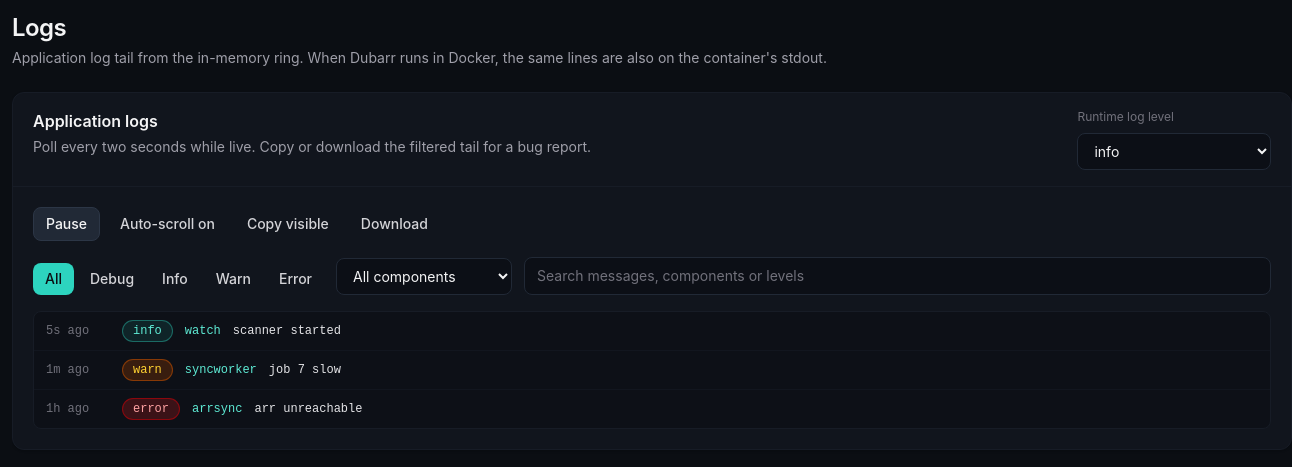
logs page › filters by level chip server-side
The width and height of the screenshot is (1292, 467).
Expected: the text "scanner started" is shown, x1=233 y1=324 x2=341 y2=338
Click the button "Warn": (233, 279) x1=204 y1=263 x2=263 y2=295
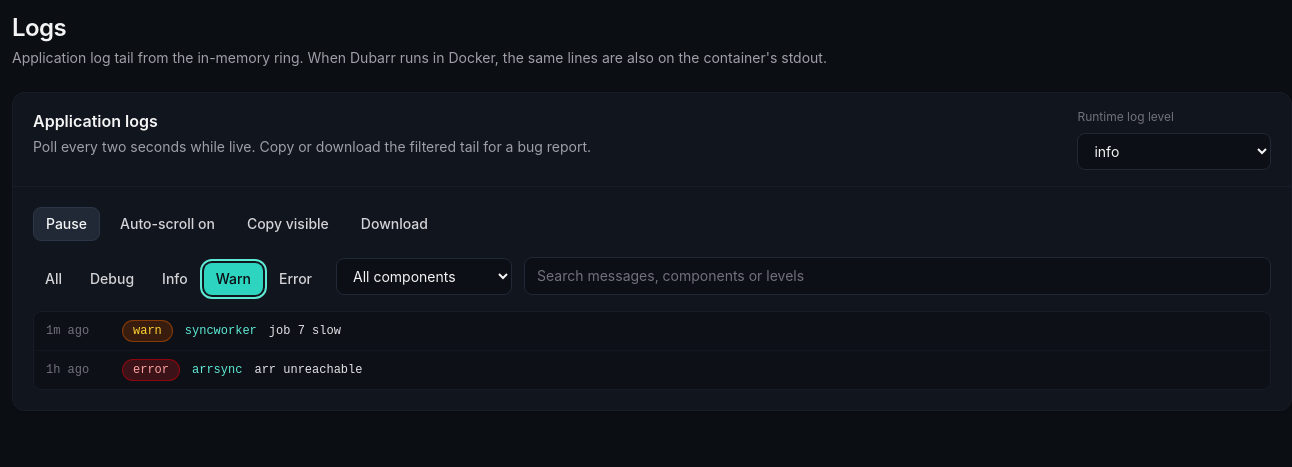
Expected: the text "job 7 slow" is shown, x1=269 y1=324 x2=341 y2=338
Expected: the text "scanner started" is gone
